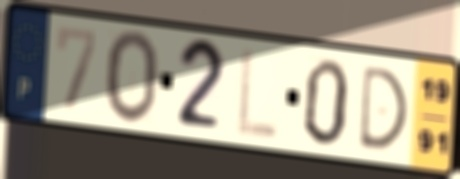0: (301, 56, 353, 149)
2: (171, 36, 232, 136)
7: (53, 22, 99, 115)
D: (356, 63, 411, 153)
L: (234, 44, 281, 142)
O: (104, 27, 162, 128)
